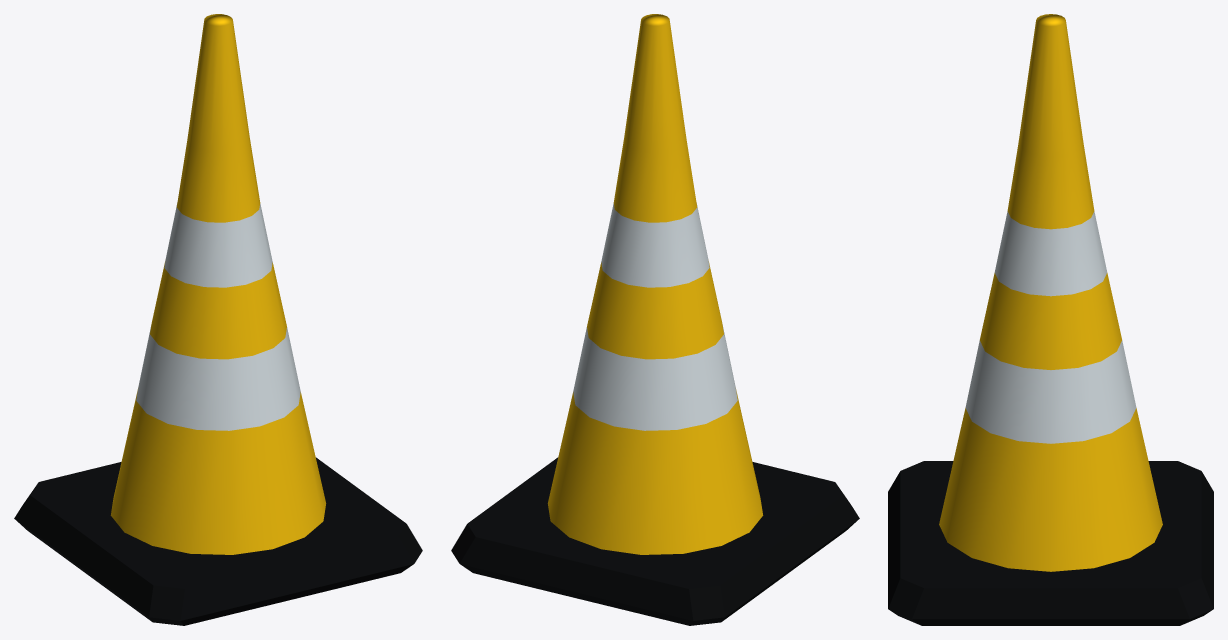
Rendered from pylon.dae.
The picture shows the model from 3 angles, left to right: view 1: azimuth 30°, elevation 25°; view 2: azimuth 150°, elevation 25°; view 3: azimuth 270°, elevation 25°; orthographic projection. The views are drawn at different scales.
Visible parts, largest first — view 1: pylon; view 2: pylon; view 3: pylon.
Part boxes in pixels (x1,y1,x2,y2): pylon: (14, 14, 422, 625); pylon: (451, 14, 859, 625); pylon: (888, 14, 1213, 625).
Size of the model in its own units: 0.48 by 0.48 by 0.88.
